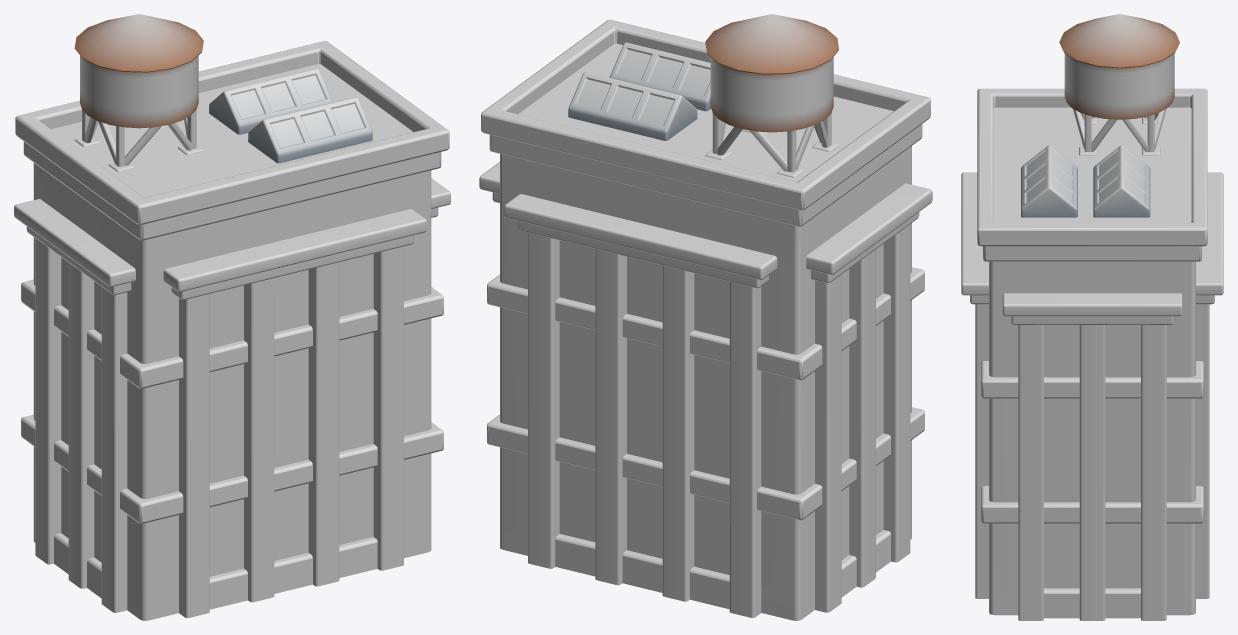
The model's file is NF_Bld_Apartment 22.fbx.
3 renders of one model, left to right at view 1: azimuth 30°, elevation 25°; view 2: azimuth 150°, elevation 25°; view 3: azimuth 270°, elevation 25°, orthographic. The views are drawn at different scales.
Parts seen in each view (by area): view 1: Apart_22; view 2: Apart_22; view 3: Apart_22.
Part boxes in pixels (x1,y1,x2,y2): Apart_22: (14, 14, 450, 620); Apart_22: (479, 14, 932, 620); Apart_22: (961, 14, 1223, 620).
Bounding box in the file's own units: 10.6 × 15.99 × 7.6.
